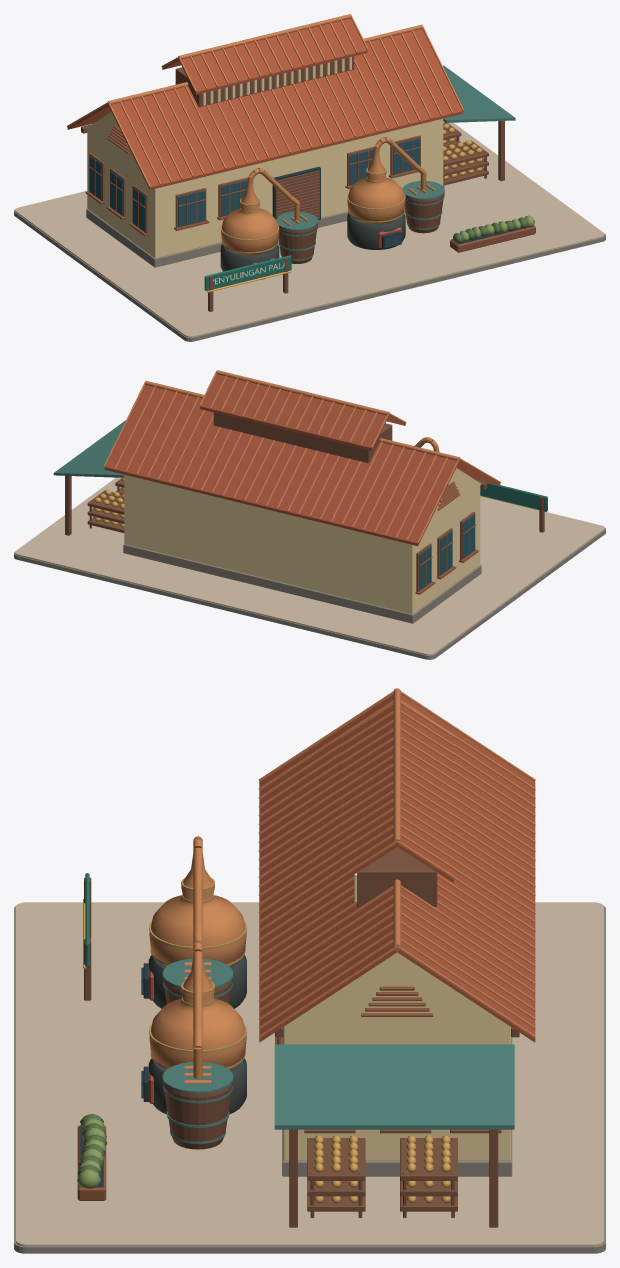
3 renders of one model, top to bottom at view 1: azimuth 30°, elevation 25°; view 2: azimuth 150°, elevation 25°; view 3: azimuth 270°, elevation 25°, orthographic. The views are drawn at different scales.
Parts seen in each view (by area): view 1: Terracotta Jack Roof, Delivery Apron, Spice Loft, Copper Still Yard, Condensing Worm Tuns; view 2: Terracotta Jack Roof, Spice Loft, Delivery Apron; view 3: Delivery Apron, Terracotta Jack Roof, Spice Loft, Copper Still Yard, Condensing Worm Tuns.
Boxes of the visible parts, x1,y1,x2,y2 form: Terracotta Jack Roof: (67, 14, 515, 189); Delivery Apron: (14, 122, 605, 341); Spice Loft: (81, 112, 504, 267); Copper Still Yard: (220, 137, 426, 279); Condensing Worm Tuns: (276, 181, 444, 263); Terracotta Jack Roof: (53, 370, 500, 545); Spice Loft: (65, 468, 486, 623); Delivery Apron: (14, 477, 605, 659); Delivery Apron: (14, 873, 605, 1253); Terracotta Jack Roof: (258, 688, 535, 1129); Spice Loft: (275, 952, 519, 1227); Copper Still Yard: (141, 836, 246, 1114); Condensing Worm Tuns: (162, 958, 233, 1149).
Size of the model in its own units: 26.4 by 10.64 by 19.2.
